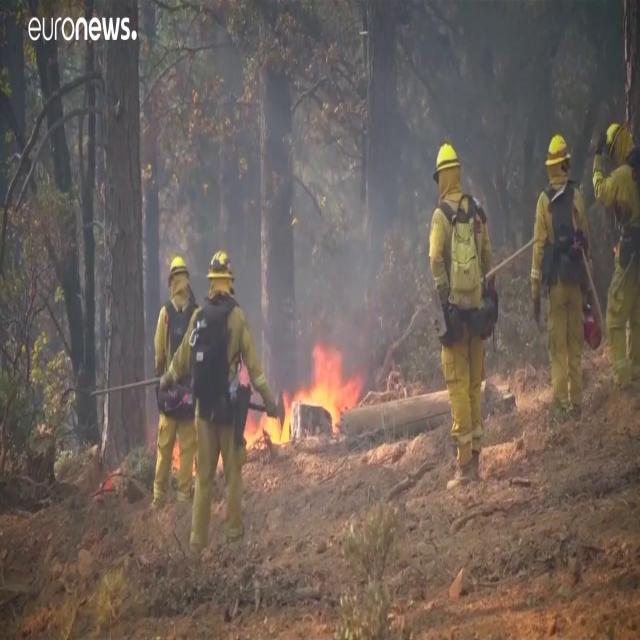Fire: (252, 341, 368, 457), (173, 442, 179, 471)
